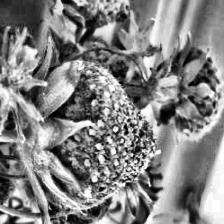Powdery Mildew Fruit: (22, 60, 160, 210), (0, 6, 41, 106), (43, 0, 130, 30)
